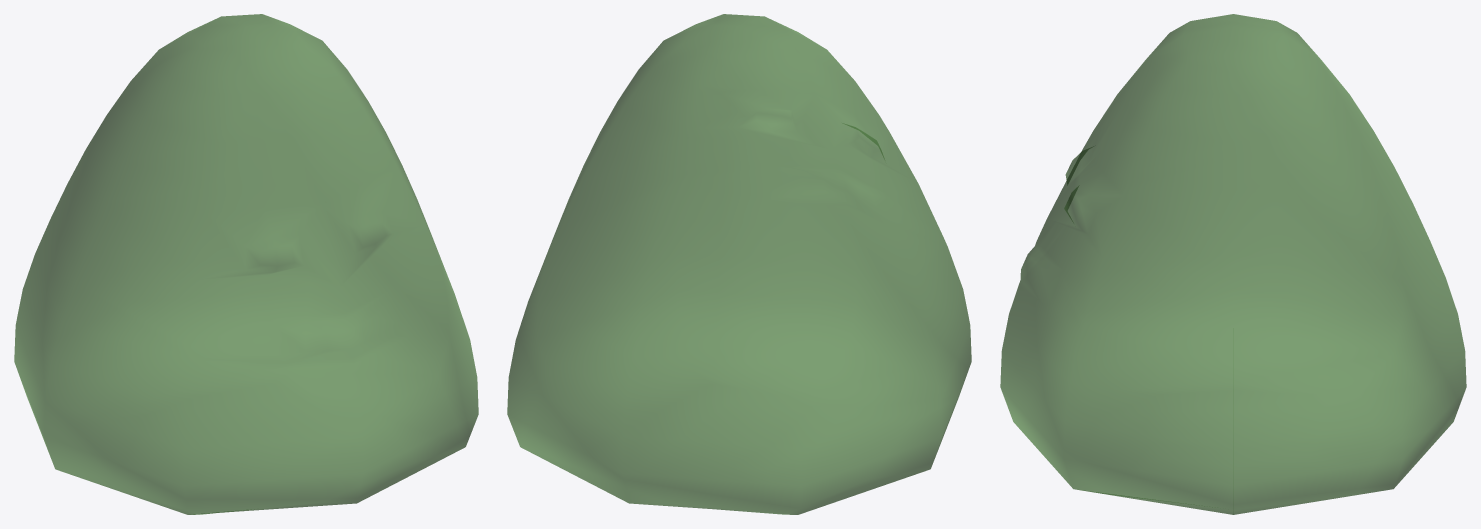
The model's file is slime.fbx.
The picture shows the model from 3 angles, left to right: view 1: azimuth 30°, elevation 25°; view 2: azimuth 150°, elevation 25°; view 3: azimuth 270°, elevation 25°; orthographic projection.
Parts seen in each view (by area): view 1: Cube; view 2: Cube; view 3: Cube.
Boxes of the visible parts, box(x1,y1,x2,y2) form: Cube: box(14, 14, 478, 514); Cube: box(507, 14, 971, 514); Cube: box(1000, 14, 1466, 514).
Bounding box in the file's own units: 288 × 286 × 288.
